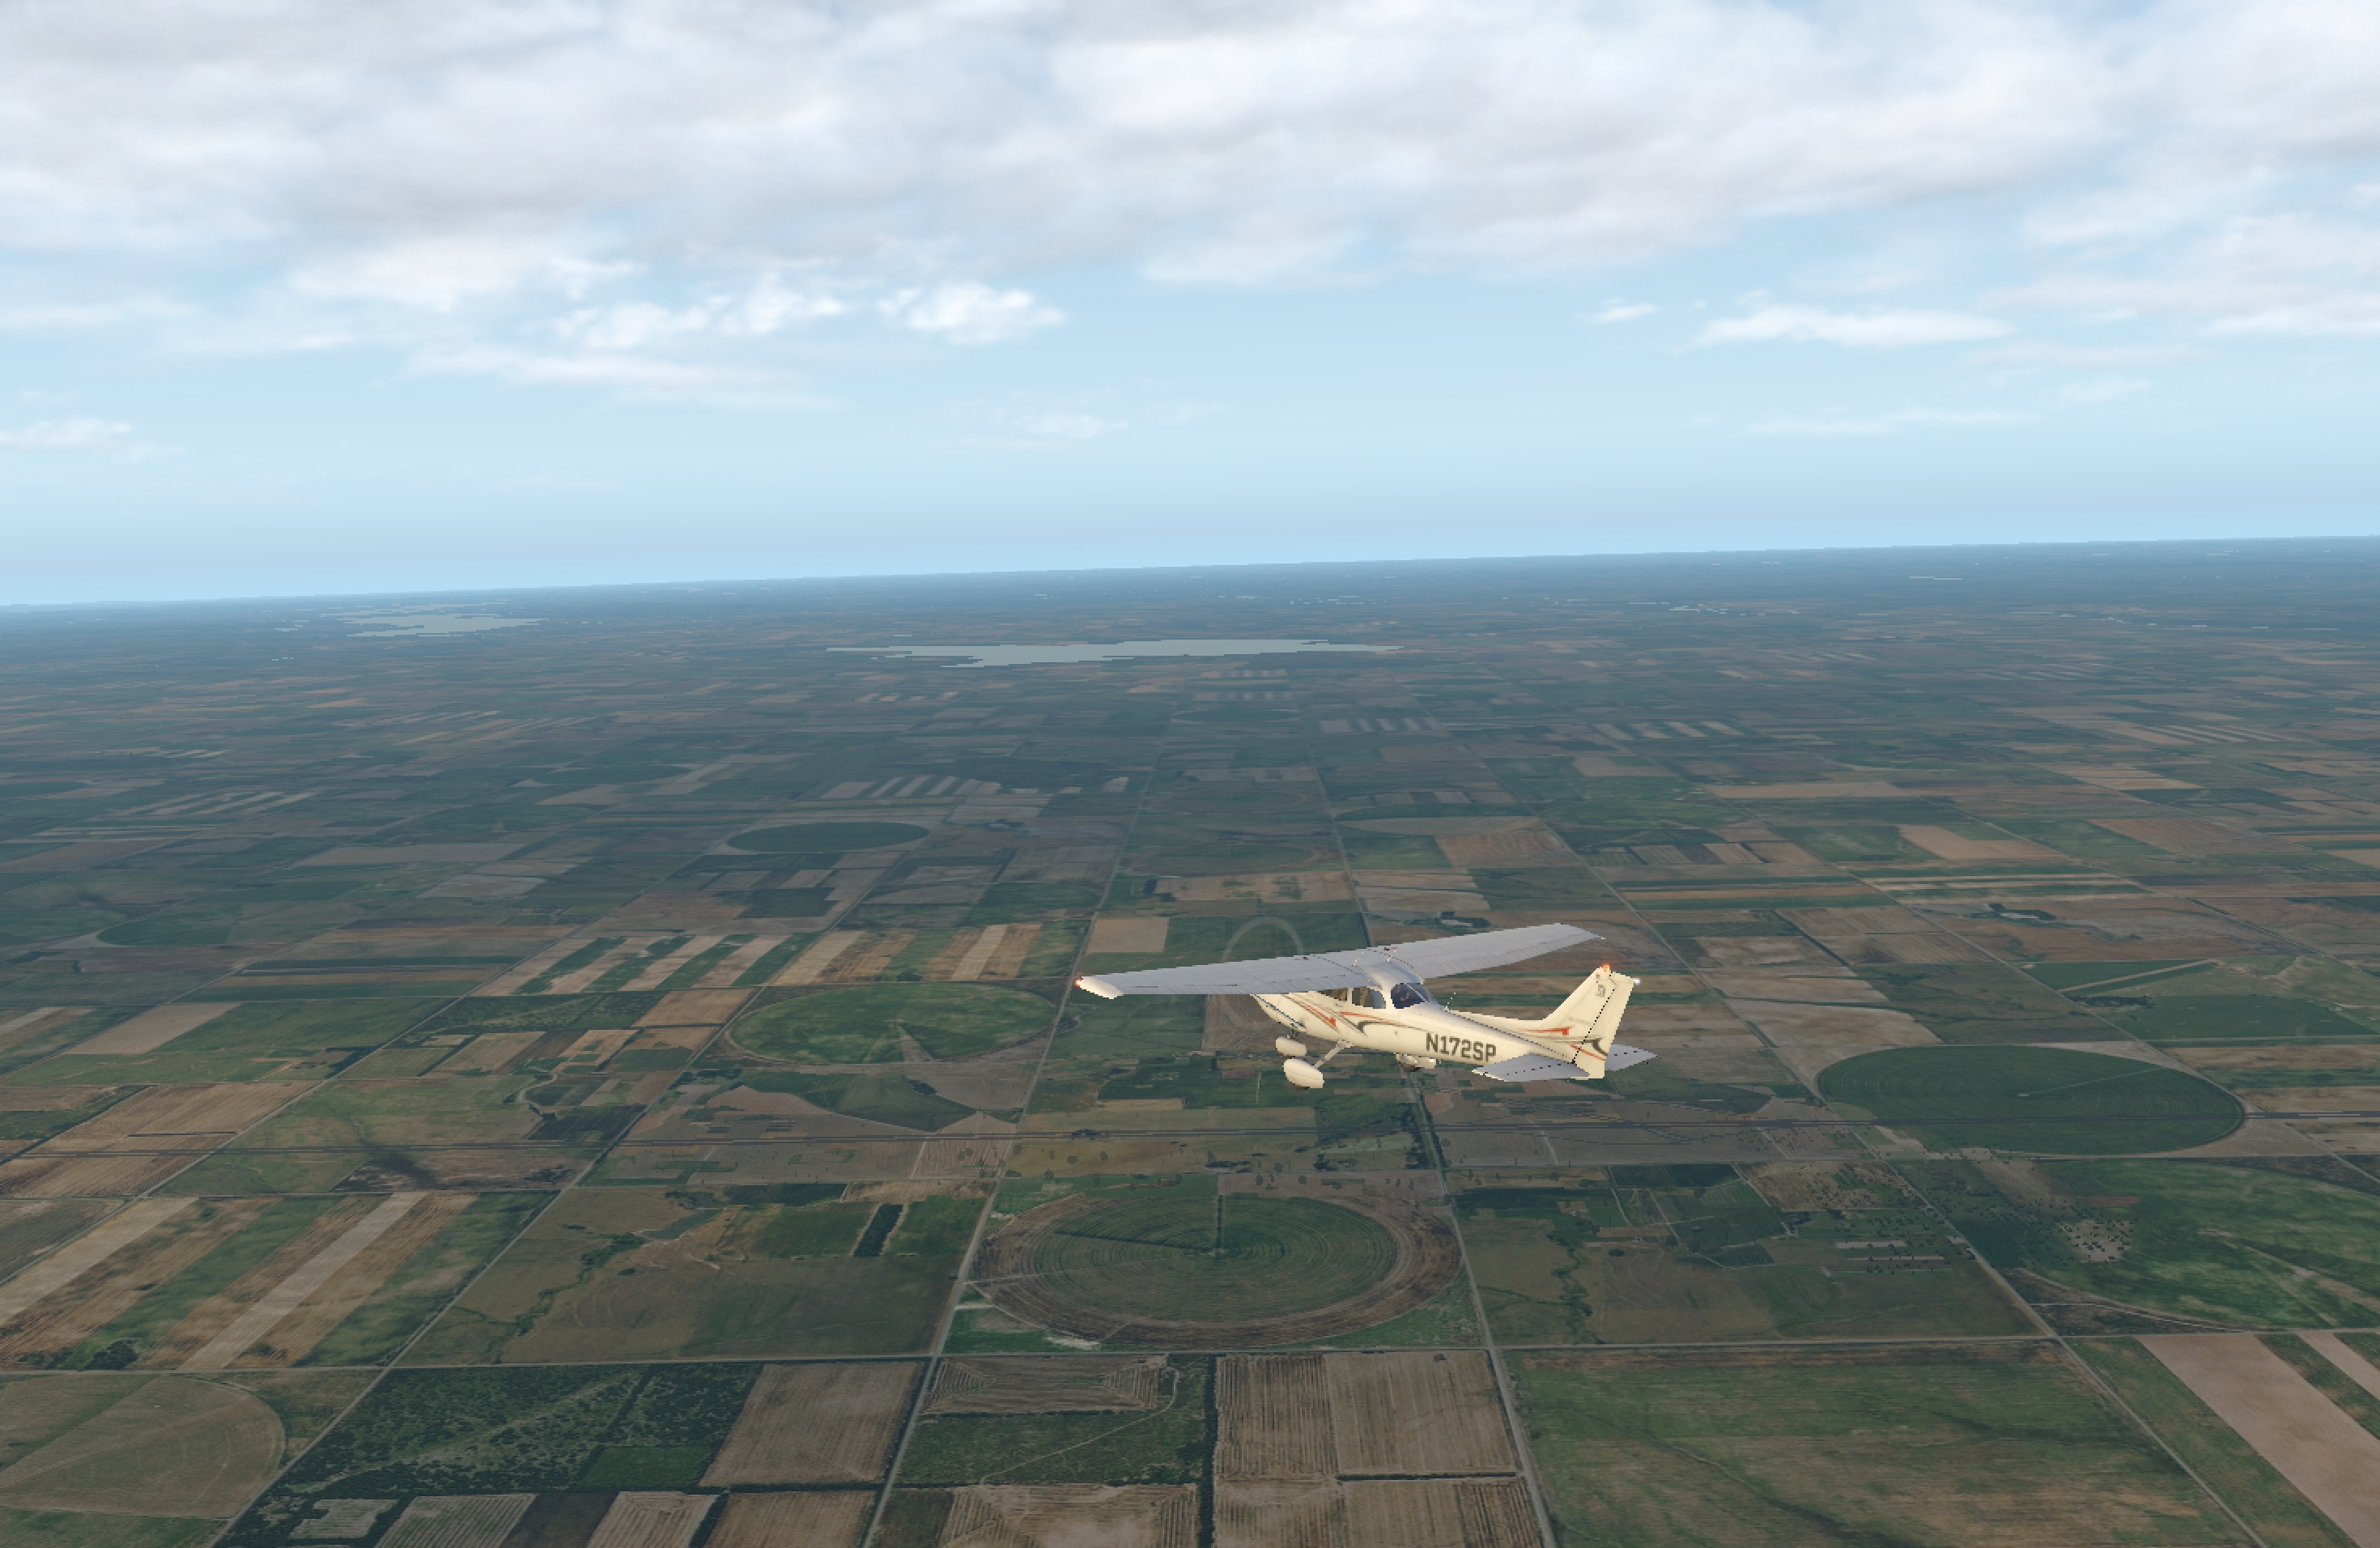aircraft: (1110, 906, 1587, 1085)
